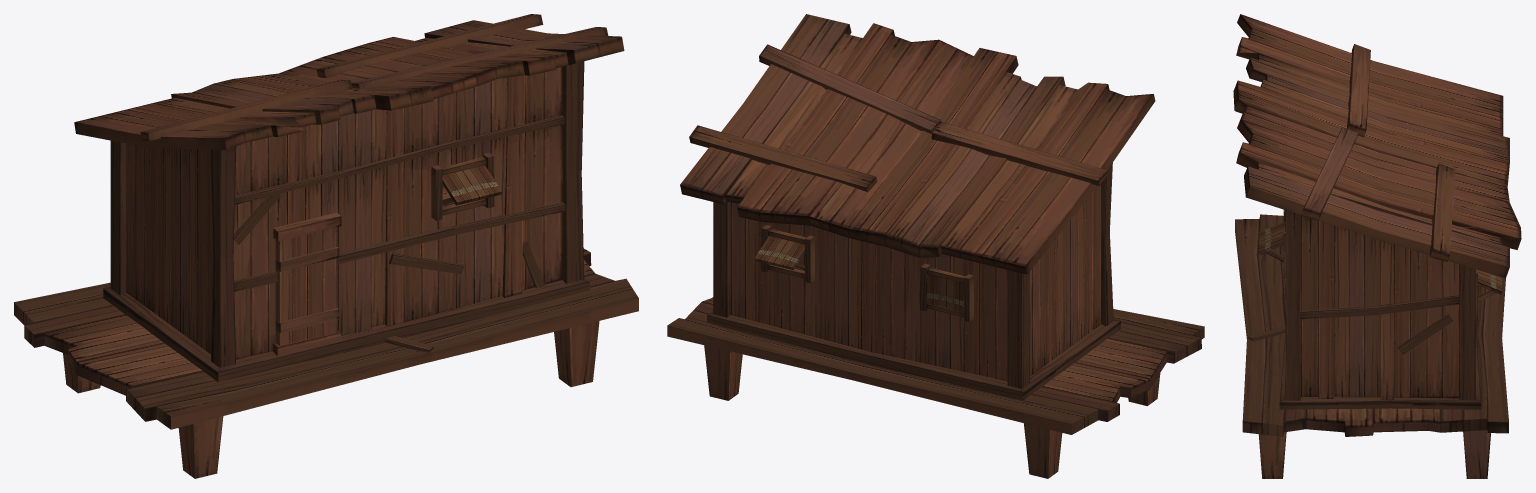
Rendered from 2_YiZhan_MuWuZi_01.FBX.
3 renders of one model, left to right at view 1: azimuth 30°, elevation 25°; view 2: azimuth 150°, elevation 25°; view 3: azimuth 270°, elevation 25°, orthographic. The views are drawn at different scales.
Visible parts, largest first — view 1: 2_YiZhan_MuWuZi_01; view 2: 2_YiZhan_MuWuZi_01; view 3: 2_YiZhan_MuWuZi_01.
Part boxes in pixels (x1,y1,x2,y2): 2_YiZhan_MuWuZi_01: (14, 14, 638, 478); 2_YiZhan_MuWuZi_01: (667, 14, 1204, 478); 2_YiZhan_MuWuZi_01: (1233, 14, 1521, 478).
Size of the model in its own units: 1038 by 690 by 589.
